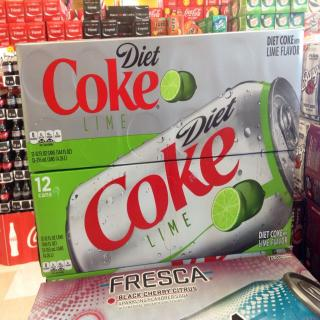Lemon: (212, 189, 246, 231), (235, 180, 265, 218)
